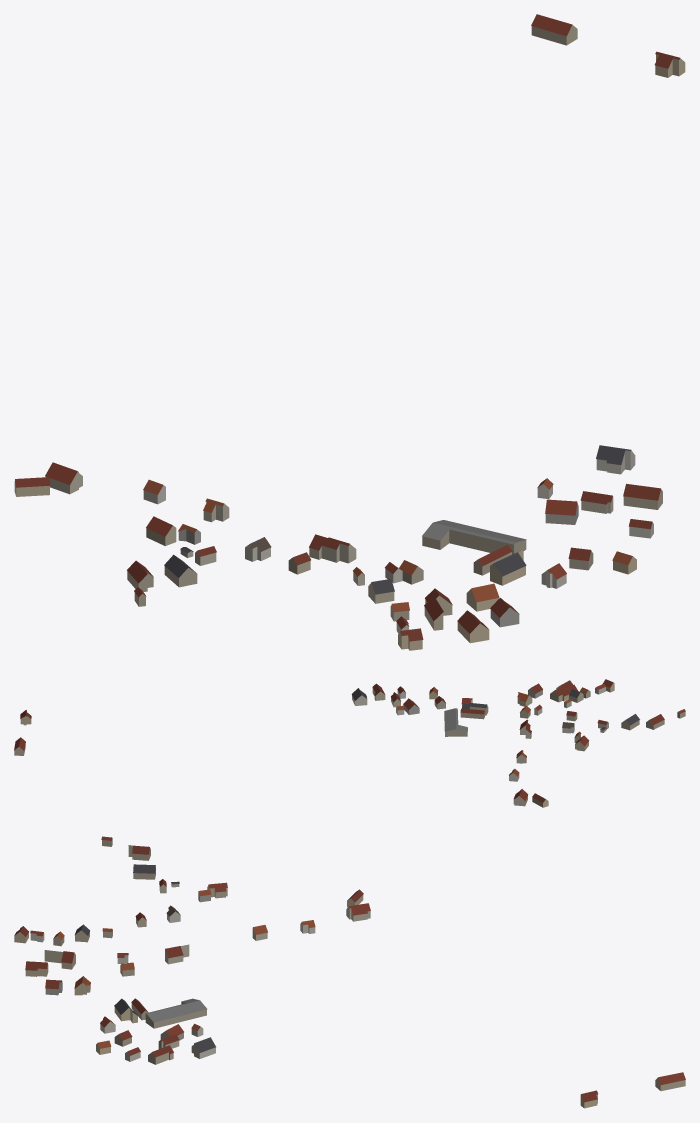
3 renders of one model, top to bottom at view 1: azimuth 30°, elevation 25°; view 2: azimuth 150°, elevation 25°; view 3: azimuth 270°, elevation 25°, orthographic. The views are drawn at different scales.
Parts seen in each view (by area): view 1: buildings; view 2: buildings; view 3: buildings.
Part boxes in pixels (x1=…): buildings: x1=14, y1=14, x2=685, y2=650; buildings: x1=14, y1=679, x2=685, y2=807; buildings: x1=14, y1=836, x2=685, y2=1108.
Size of the model in its own units: 588 by 87.88 by 573.
